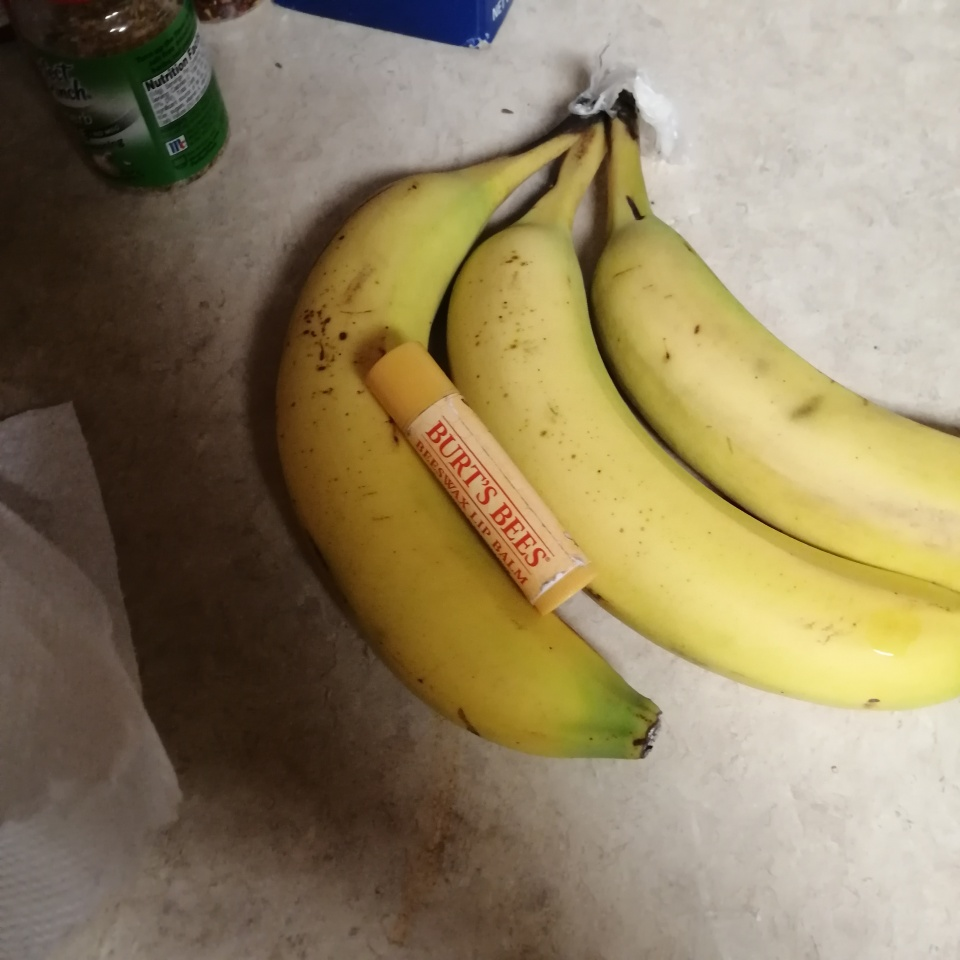chapstick: (364, 339, 598, 620)
